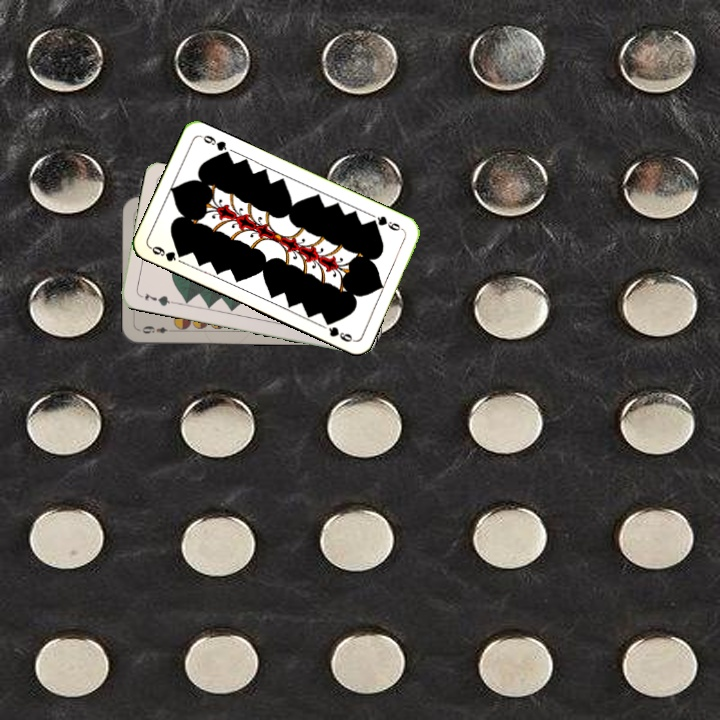E9: (136, 322, 177, 336)
G7: (135, 289, 175, 309)
G9: (146, 242, 187, 264), (366, 212, 406, 234)
